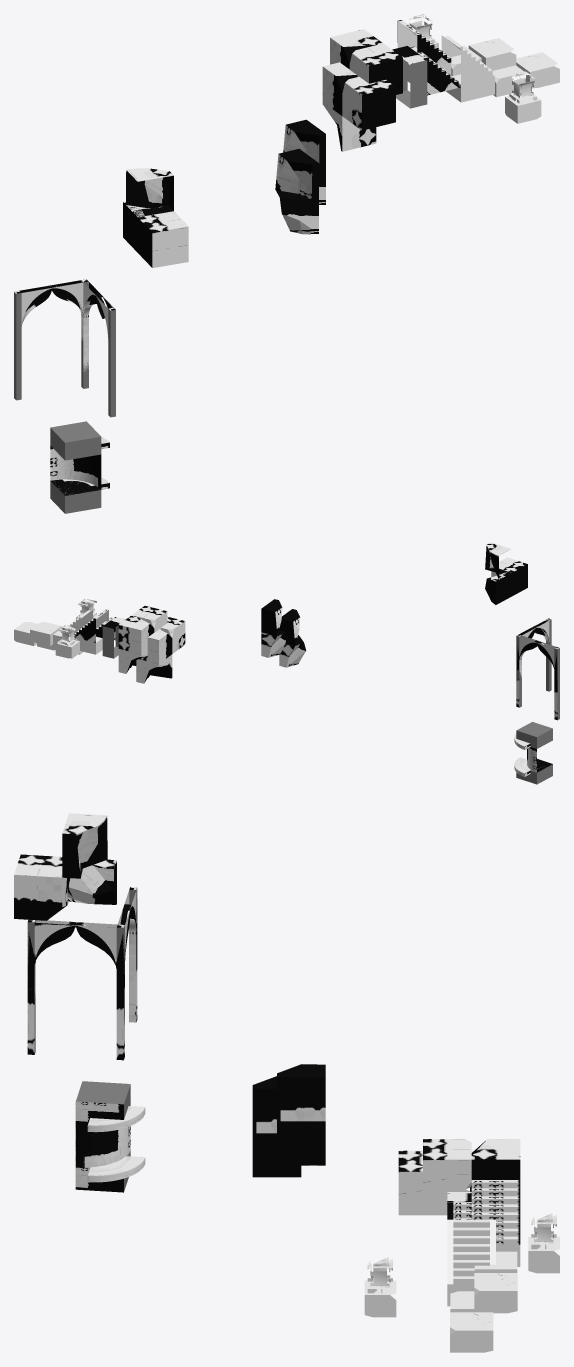
File: Lighthouse.fbx
3 renders of one model, top to bottom at view 1: azimuth 30°, elevation 25°; view 2: azimuth 150°, elevation 25°; view 3: azimuth 270°, elevation 25°, orthographic. The views are drawn at different scales.
Parts seen in each view (by area): view 1: Chipped_Cube2 (×3), Chipped_Cube3 (×2), Chipped_SplitCube_F (×2), Departure_PierSection2 (10) (×2), Chipped_SplitCube_E_NoBackfaces, Chipped_Crumbled2 (×2), Whitebox_Convex_Small, Whitebox_Cube, Whitebox_Stairs (×2), Whitebox_cube, Whitebox_Stairs_Inset, Chipped_Crumbled1 (+8 smaller); view 2: Chipped_Cube2 (×3), Chipped_Crumbled2 (×3), Chipped_SplitCube_F (×2), Chipped_Crumbled1 (×2), Chipped_Cube3 (×2), Departure_PierSection2 (10) (×2), Whitebox_Cube, Arches_Onion_Large (1), Whitebox_cube, Chipped_SplitCube_E_NoBackfaces, Departure_PierSection2 (9), Whitebox_Stairs (+3 smaller); view 3: Chipped_Crumbled2 (×3), Chipped_Cube2 (×2), Chipped_Cube3 (×2), Chipped_SplitCube_F (×2), Departure_PierSection2 (10) (×2), Whitebox_Stairs_Inset, Arches_Onion_Large, Whitebox_Stairs, Chipped_SplitCube_E_NoBackfaces, Departure_PierSection2 (9) (×2), Whitebox_Cube, Whitebox_Convex_Small (+6 smaller).
Boxes of the visible parts, x1,y1,x2,y2 form: Chipped_Cube2 (×3): [137, 29, 382, 267]; Chipped_Cube3 (×2): [342, 43, 402, 130]; Chipped_SplitCube_F (×2): [275, 119, 325, 199]; Departure_PierSection2 (10) (×2): [468, 38, 559, 88]; Chipped_SplitCube_E_NoBackfaces: [126, 168, 173, 216]; Chipped_Crumbled2 (×2): [123, 190, 318, 252]; Whitebox_Convex_Small: [50, 445, 101, 495]; Whitebox_Cube: [50, 421, 101, 460]; Whitebox_Stairs (×2): [397, 20, 460, 95]; Whitebox_cube: [392, 46, 427, 108]; Whitebox_Stairs_Inset: [441, 35, 494, 84]; Chipped_Crumbled1: [322, 102, 376, 151]; Chipped_Cube2 (×3): [118, 557, 527, 663]; Chipped_Crumbled2 (×3): [261, 572, 511, 667]; Chipped_SplitCube_F (×2): [261, 599, 300, 645]; Chipped_Crumbled1 (×2): [118, 648, 172, 683]; Chipped_Cube3 (×2): [132, 606, 185, 653]; Departure_PierSection2 (10) (×2): [14, 622, 61, 646]; Whitebox_Cube: [516, 722, 552, 748]; Arches_Onion_Large (1): [516, 642, 557, 720]; Whitebox_cube: [102, 617, 125, 658]; Chipped_SplitCube_E_NoBackfaces: [485, 542, 511, 579]; Departure_PierSection2 (9): [55, 638, 79, 658]; Whitebox_Stairs: [74, 609, 108, 642]; Chipped_Crumbled2 (×3): [66, 859, 325, 1177]; Chipped_Cube2 (×2): [14, 854, 520, 1179]; Chipped_Cube3 (×2): [398, 1139, 471, 1215]; Chipped_SplitCube_F (×2): [252, 1064, 325, 1133]; Departure_PierSection2 (10) (×2): [450, 1273, 517, 1352]; Whitebox_Stairs_Inset: [447, 1219, 495, 1284]; Arches_Onion_Large: [27, 922, 123, 1060]; Whitebox_Stairs: [471, 1180, 520, 1244]; Chipped_SplitCube_E_NoBackfaces: [62, 813, 107, 878]; Departure_PierSection2 (9) (×2): [364, 1236, 559, 1317]; Whitebox_Cube: [75, 1081, 130, 1124]; Whitebox_Convex_Small: [75, 1123, 130, 1167].
Bounding box in the file's own units: 19.82 × 9 × 11.22.
6 materials, 3 textured.
